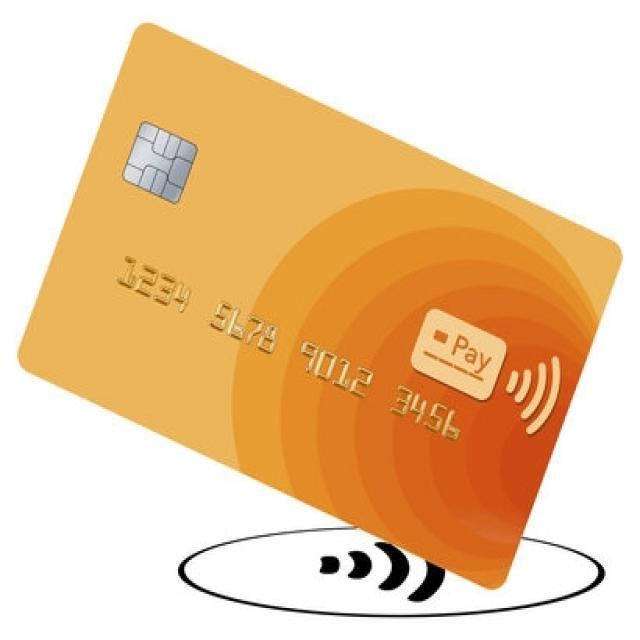payment_card: (16, 20, 624, 590)
